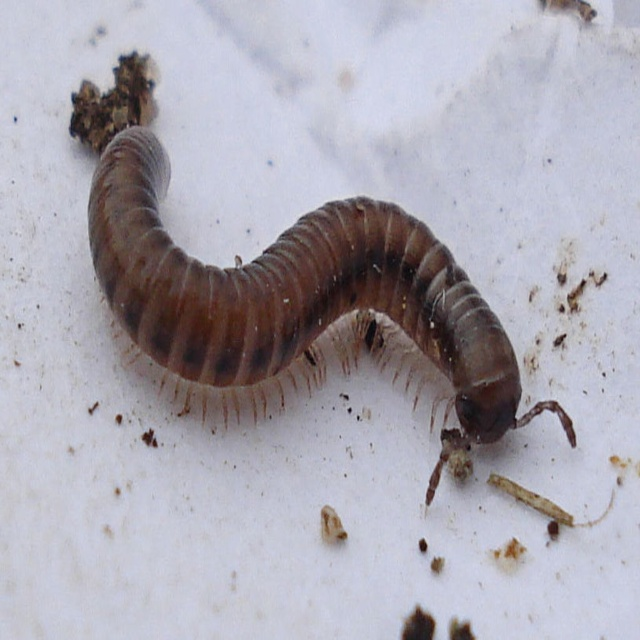Centipede: (86, 123, 576, 511)
